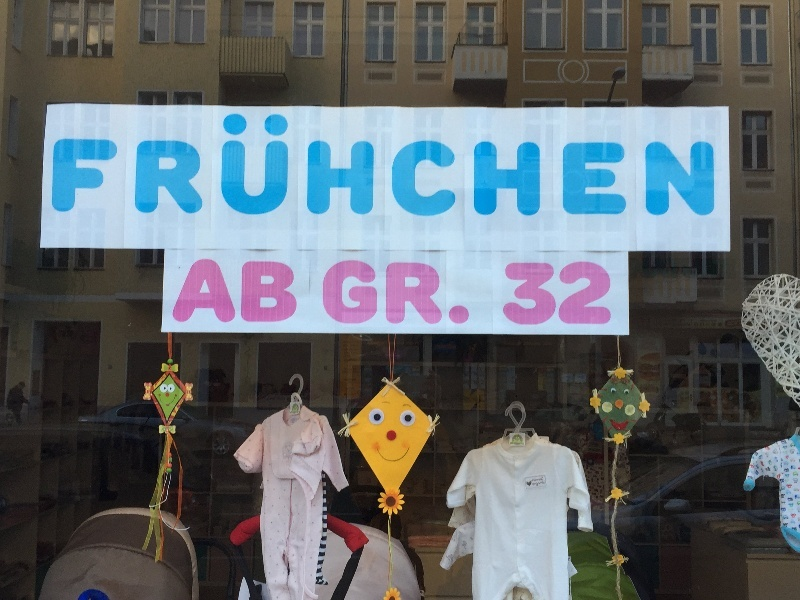text: (65, 111, 80, 218), (81, 111, 96, 218), (97, 111, 112, 218), (113, 111, 128, 218), (129, 111, 144, 218), (145, 111, 160, 218), (161, 111, 176, 218), (177, 111, 192, 218), (193, 111, 208, 218), (209, 111, 224, 218), (225, 111, 240, 218), (241, 111, 256, 218), (257, 111, 272, 218), (273, 111, 288, 218), (289, 111, 304, 218), (305, 111, 320, 218), (321, 111, 336, 218), (337, 111, 352, 218), (353, 111, 368, 218), (369, 111, 384, 218), (385, 111, 400, 218), (401, 111, 416, 218), (417, 111, 432, 218), (433, 111, 448, 218), (449, 111, 464, 218), (465, 111, 480, 218), (481, 111, 496, 218), (497, 111, 512, 218), (513, 111, 528, 218), (529, 111, 544, 218), (545, 111, 560, 218), (561, 111, 576, 218), (577, 111, 592, 218), (593, 111, 608, 218), (609, 111, 624, 218), (625, 111, 640, 218), (641, 111, 656, 218), (657, 111, 672, 218), (673, 111, 688, 218), (689, 111, 704, 218), (705, 111, 715, 218), (337, 259, 352, 325), (353, 259, 368, 325), (369, 259, 384, 325), (385, 259, 400, 325), (401, 259, 416, 325), (417, 259, 432, 325), (433, 259, 448, 325), (449, 259, 464, 325), (55, 111, 64, 218), (209, 259, 224, 323), (225, 259, 240, 323), (241, 259, 256, 323), (257, 259, 272, 323), (273, 259, 288, 323), (513, 263, 528, 326), (529, 263, 544, 326), (545, 263, 560, 326), (561, 263, 576, 326), (577, 263, 592, 326), (593, 263, 608, 326), (194, 259, 208, 323), (324, 259, 336, 325), (289, 259, 298, 323), (504, 263, 512, 326), (465, 259, 471, 325), (609, 263, 611, 326), (533, 481, 544, 487), (532, 477, 544, 482)
